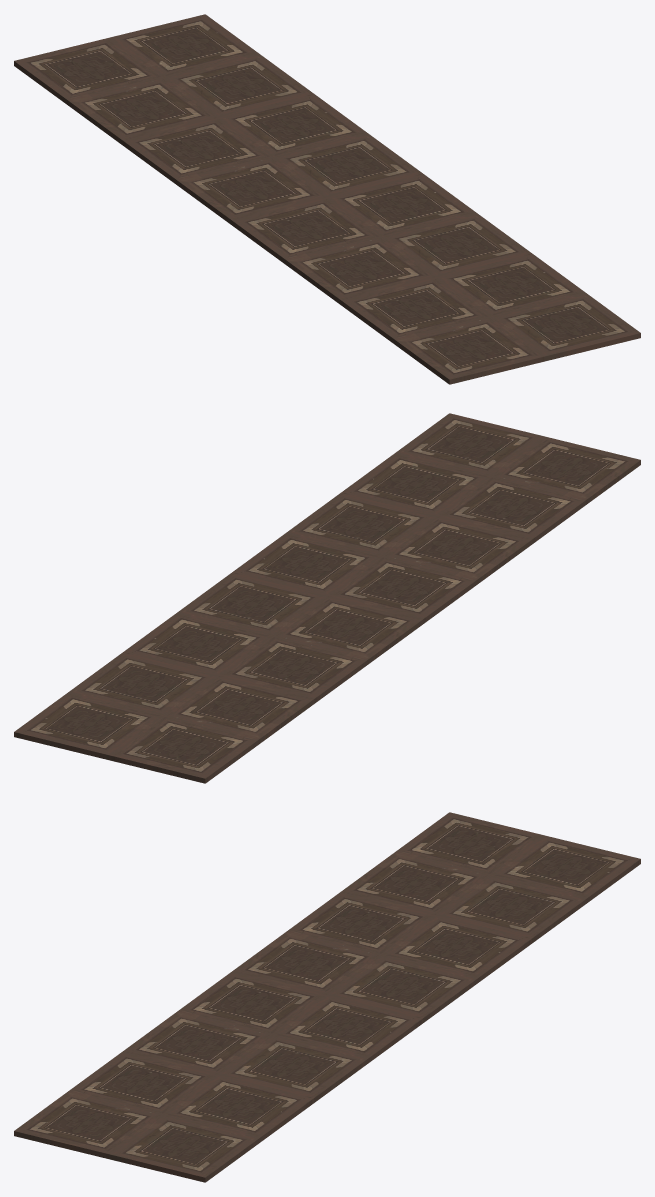
Rendered from Homeworld_Interior_Ly_Room_O_Ceiling_01_Vo.fbx.
The picture shows the model from 3 angles, top to bottom: view 1: azimuth 30°, elevation 25°; view 2: azimuth 150°, elevation 25°; view 3: azimuth 330°, elevation 25°; orthographic projection.
Parts seen in each view (by area): view 1: Homeworld_Interior_Ly_Room_O_Ceiling_01_Vo; view 2: Homeworld_Interior_Ly_Room_O_Ceiling_01_Vo; view 3: Homeworld_Interior_Ly_Room_O_Ceiling_01_Vo.
Part boxes in pixels (left/top/right/bottom): Homeworld_Interior_Ly_Room_O_Ceiling_01_Vo: left=14, top=14, right=640, bottom=384; Homeworld_Interior_Ly_Room_O_Ceiling_01_Vo: left=14, top=413, right=640, bottom=783; Homeworld_Interior_Ly_Room_O_Ceiling_01_Vo: left=14, top=812, right=640, bottom=1182.
Bounding box in the file's own units: 5.1 × 0.1279 × 20.1.
